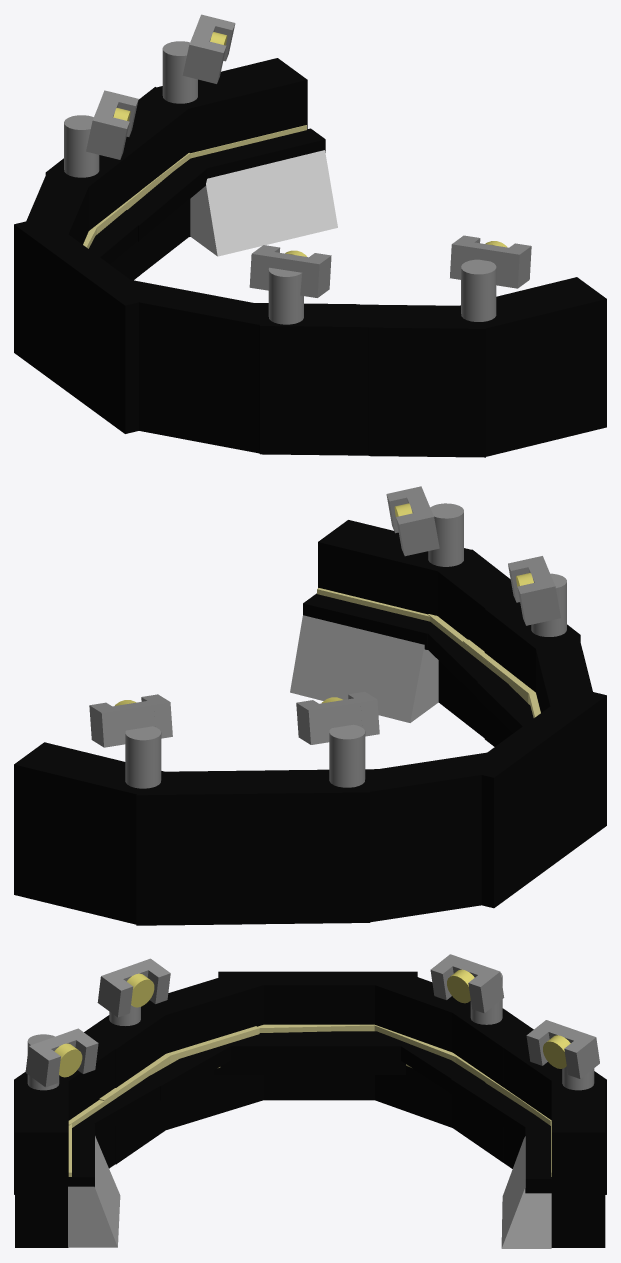
Rendered from stadium.fbx.
The picture shows the model from 3 angles, top to bottom: view 1: azimuth 30°, elevation 25°; view 2: azimuth 150°, elevation 25°; view 3: azimuth 270°, elevation 25°; orthographic projection. The views are drawn at different scales.
Parts seen in each view (by area): view 1: group41_pasted__pCylinder3; view 2: group41_pasted__pCylinder3; view 3: group41_pasted__pCylinder3.
Part boxes in pixels (x1,y1,x2,y2): group41_pasted__pCylinder3: (14, 14, 606, 457); group41_pasted__pCylinder3: (14, 486, 606, 925); group41_pasted__pCylinder3: (14, 954, 606, 1248).
Bounding box in the file's own units: 12.12 × 6.08 × 18.67.
